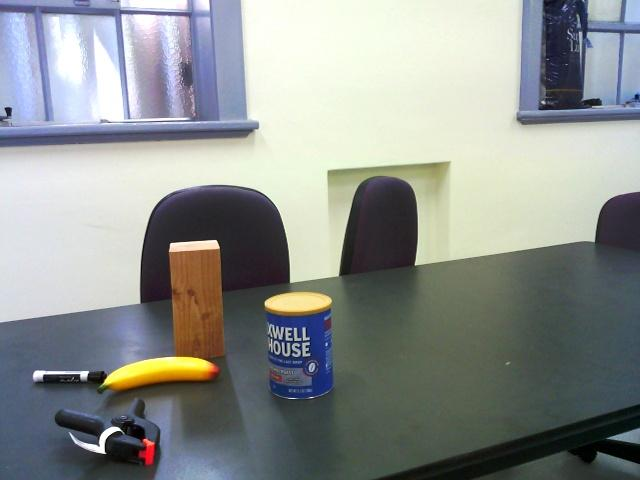002_master_chef_can: (258, 288, 336, 398)
011_banana: (97, 351, 227, 395)
036_wood_block: (170, 234, 230, 357)
040_large_marker: (34, 363, 107, 386)
051_large_clamp: (51, 397, 168, 467)
